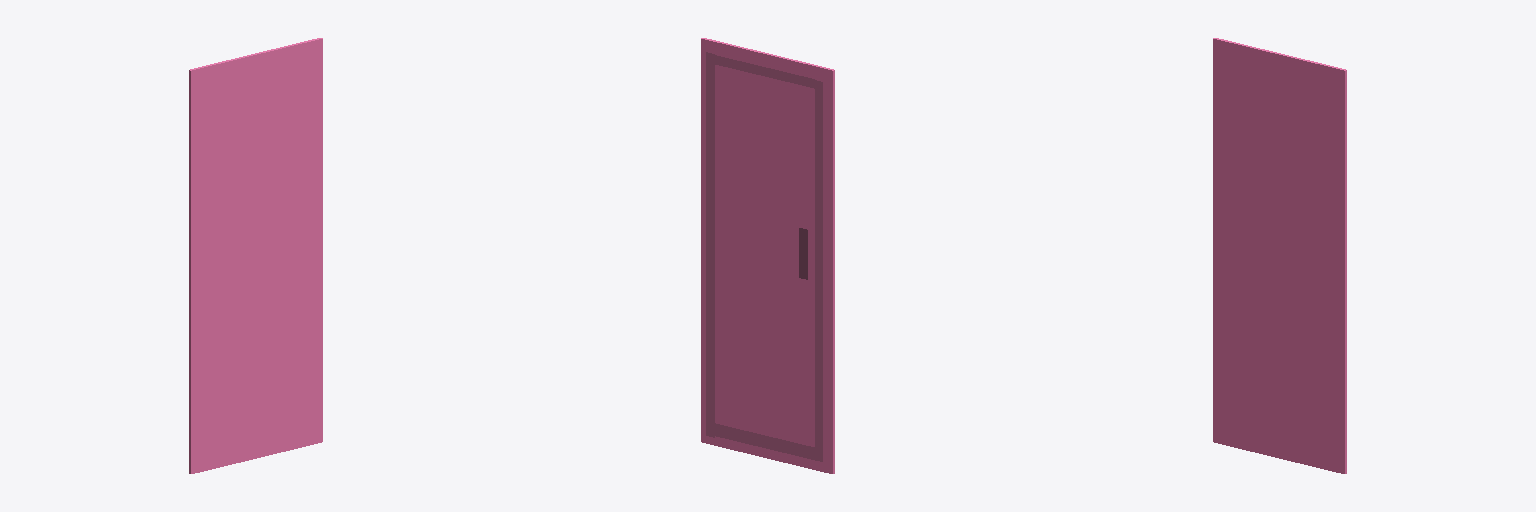
3 renders of one model, left to right at view 1: azimuth 30°, elevation 25°; view 2: azimuth 150°, elevation 25°; view 3: azimuth 330°, elevation 25°, orthographic.
Visible parts, largest first — view 1: RoperoPuertaIzquierda:pasted__pasted__pasted__pasted__pCube1past; view 2: RoperoPuertaIzquierda:pasted__pasted__pasted__pasted__pCube1past; view 3: RoperoPuertaIzquierda:pasted__pasted__pasted__pasted__pCube1past.
Boxes of the visible parts, x1,y1,x2,y2 form: RoperoPuertaIzquierda:pasted__pasted__pasted__pasted__pCube1past: [189, 38, 322, 473]; RoperoPuertaIzquierda:pasted__pasted__pasted__pasted__pCube1past: [701, 38, 834, 473]; RoperoPuertaIzquierda:pasted__pasted__pasted__pasted__pCube1past: [1213, 38, 1346, 473].
Size of the model in its own units: 0.4007 by 1.17 by 0.0084.
2 materials, 2 textured.